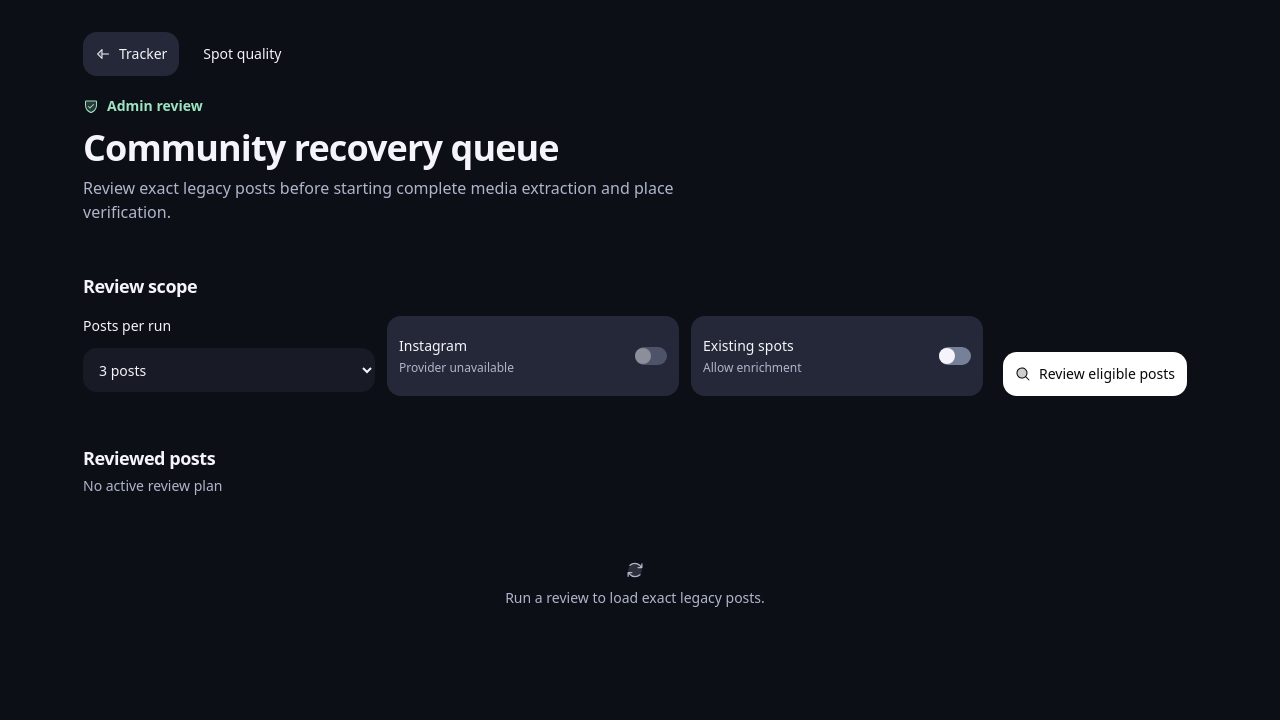
Test: SocialSubmissionRecovery › reviews exact rows before exposing the recovery command
The image size is (1280, 720).
Click the button "Review eligible posts" at coordinates (1095, 374), box [1003,352,1187,396]
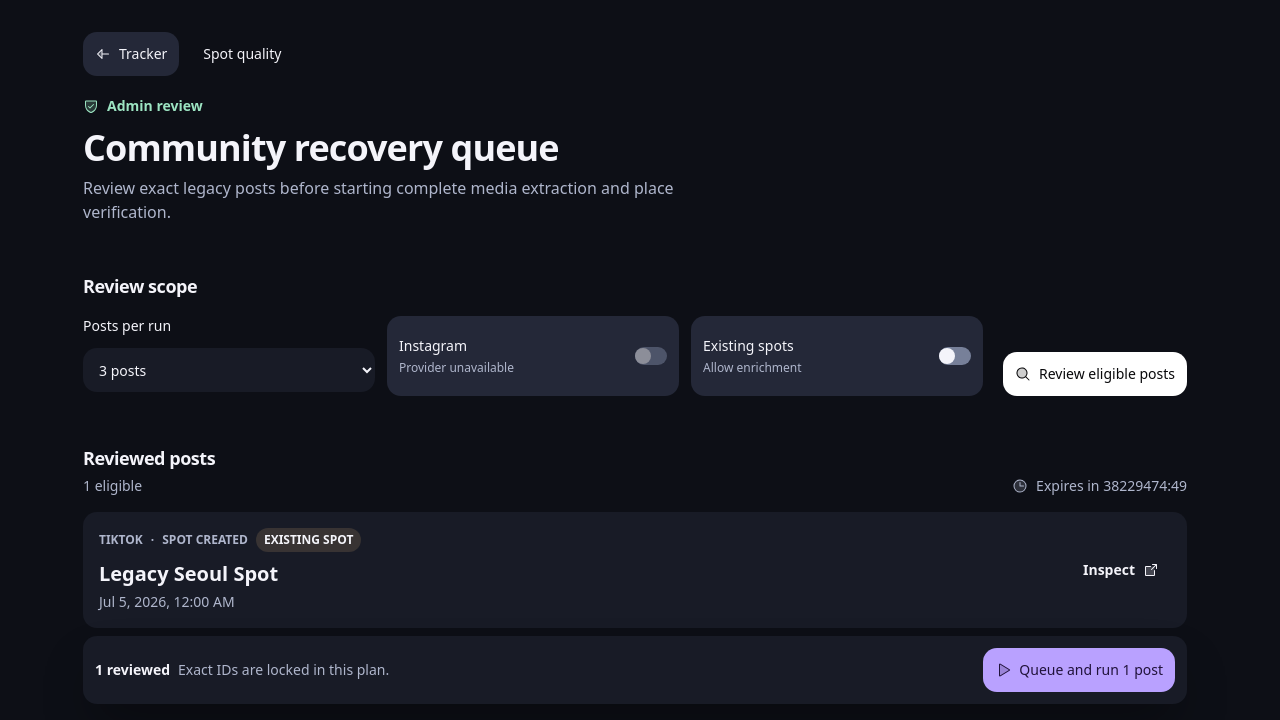
Expected: the heading "Legacy Seoul Spot" is shown, [99,560,278,587]
Expected: the text "Existing spot" is shown, [256,528,361,552]
Expected: the button "Queue and run 1 post" is shown, [983,648,1175,692]
